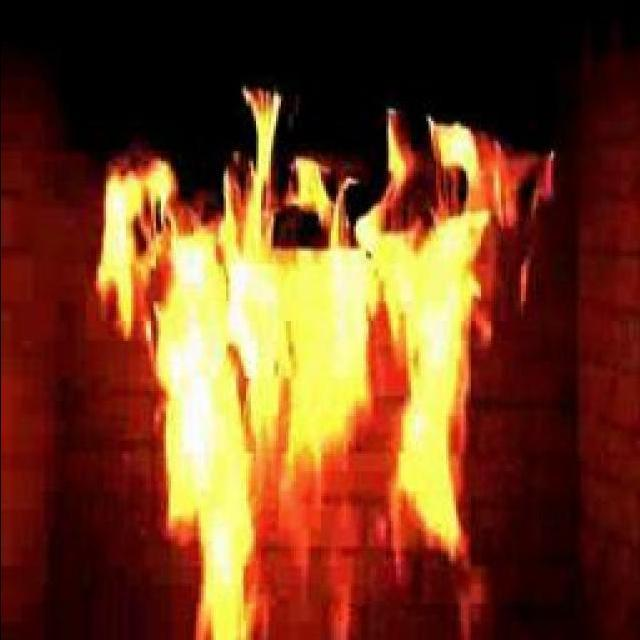Fire: (148, 112, 464, 578)
